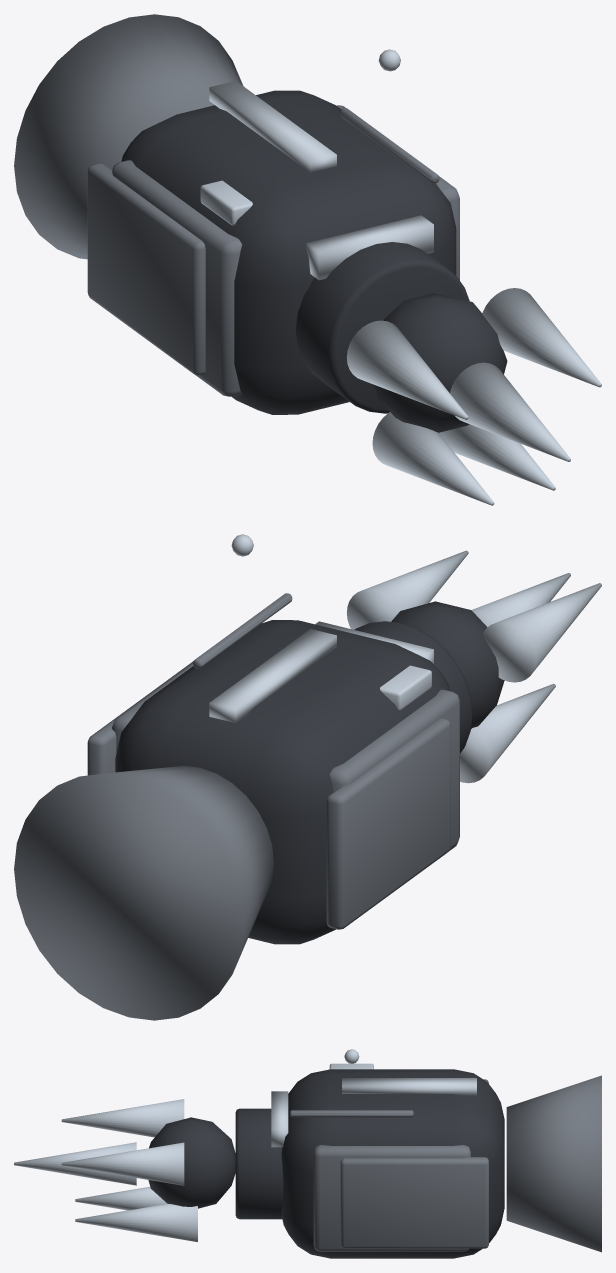
Rendered from weapon_drone_thunder_arc.glb.
3 renders of one model, top to bottom at view 1: azimuth 30°, elevation 25°; view 2: azimuth 150°, elevation 25°; view 3: azimuth 270°, elevation 25°, orthographic. The views are drawn at different scales.
Parts seen in each view (by area): view 1: weapon_drone_thunder_arc; view 2: weapon_drone_thunder_arc; view 3: weapon_drone_thunder_arc.
Boxes of the visible parts, x1,y1,x2,y2 form: weapon_drone_thunder_arc: (14,14,601,505); weapon_drone_thunder_arc: (14,534,601,1020); weapon_drone_thunder_arc: (14,1049,601,1258).
Size of the model in its own units: 0.5808 by 0.7068 by 1.73.
